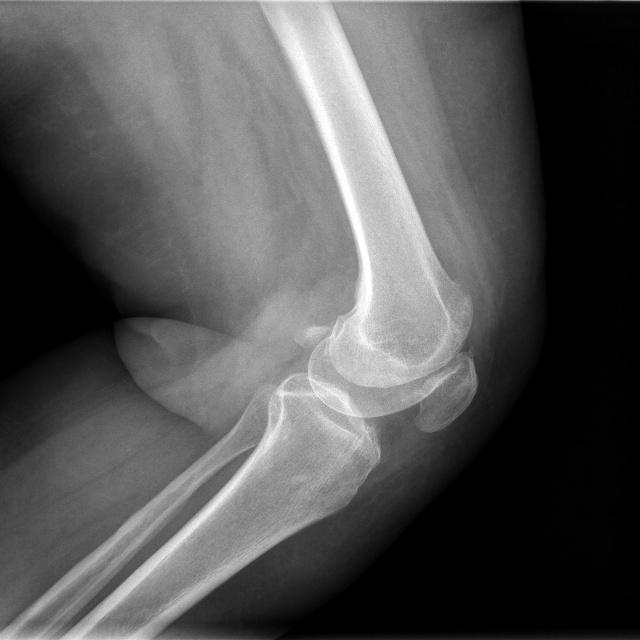Knee: (264, 271, 479, 461)
